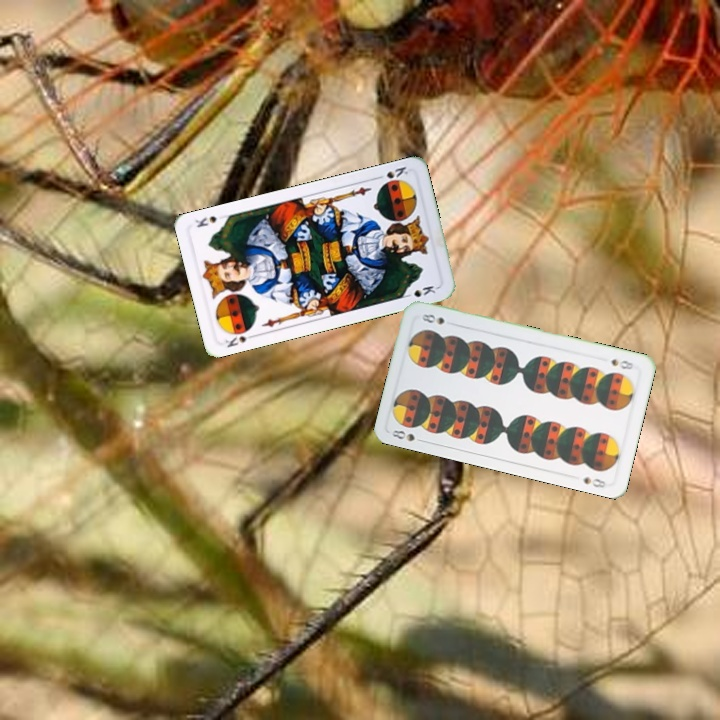S8: (388, 426, 428, 445), (607, 355, 637, 372)
SK: (371, 162, 411, 182), (220, 330, 259, 350)
